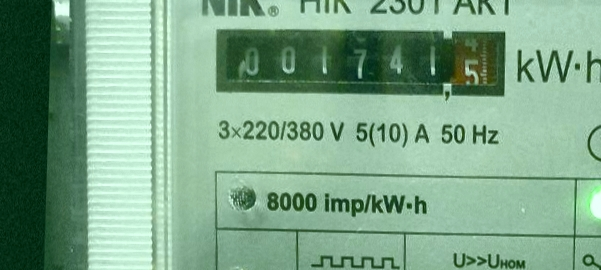0: (277, 42, 297, 76), (241, 44, 261, 77)
1: (313, 41, 331, 77), (423, 43, 439, 79)
4: (385, 41, 406, 77), (461, 35, 478, 54)
5: (460, 55, 479, 87)
7: (349, 45, 367, 80)
screen: (207, 17, 512, 107)
